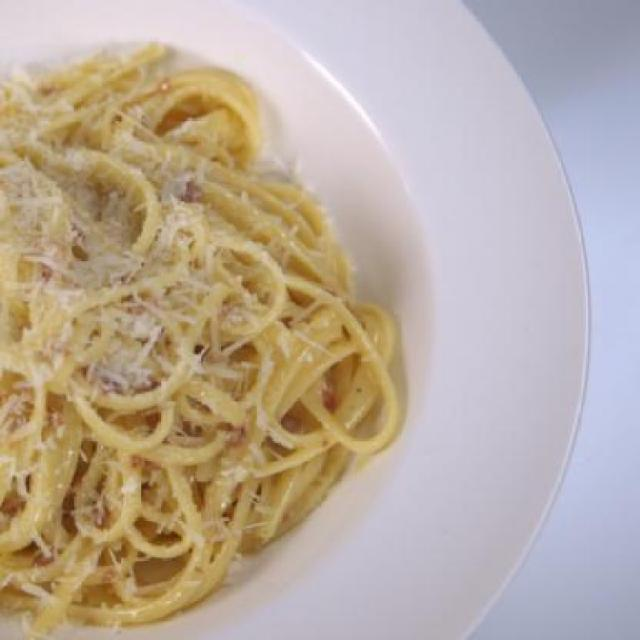Pasta with carbonara sauce: (3, 27, 446, 606)
